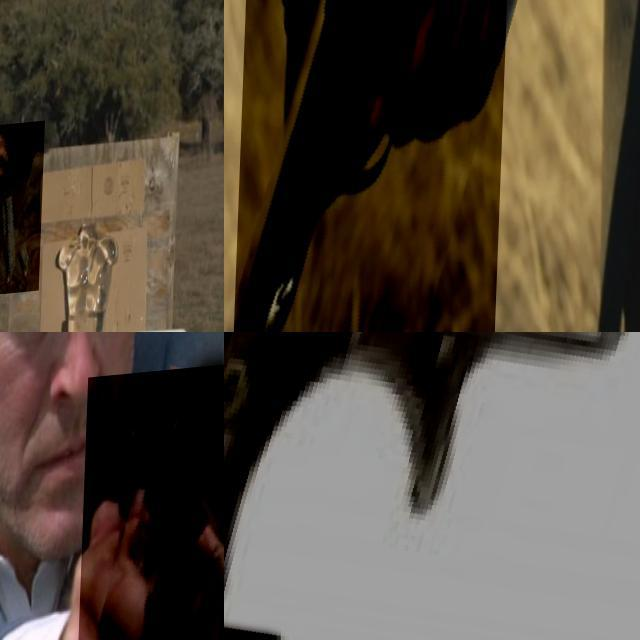-: (0, 128, 46, 304)
gun-knife-thesis - v11 Yolov5 augmented: (224, 332, 640, 640), (233, 0, 512, 332), (76, 370, 224, 640)
